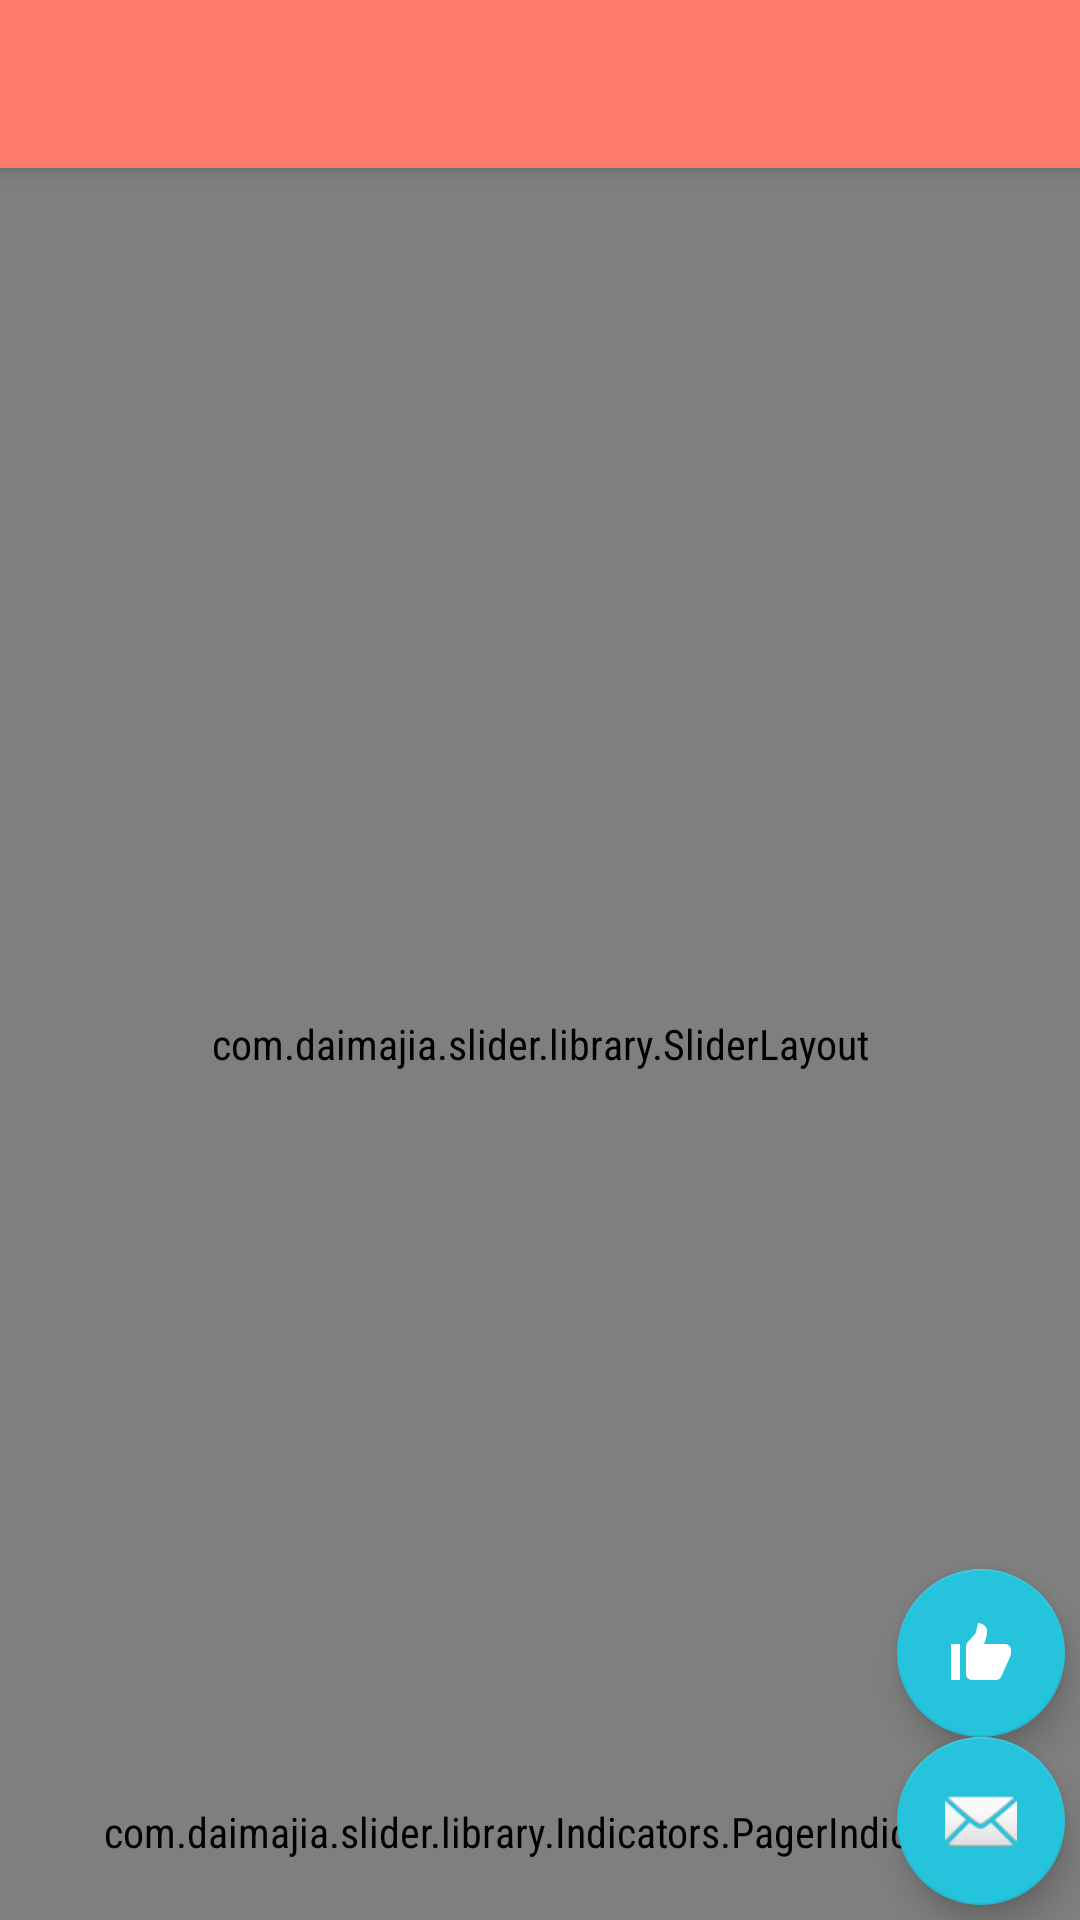

Icons on this 1080w x 1920h Android screen, each with its box as box=[x1, y1, x2, y2]:
email: box=[897, 1737, 1065, 1905]
like: box=[897, 1569, 1065, 1737]
